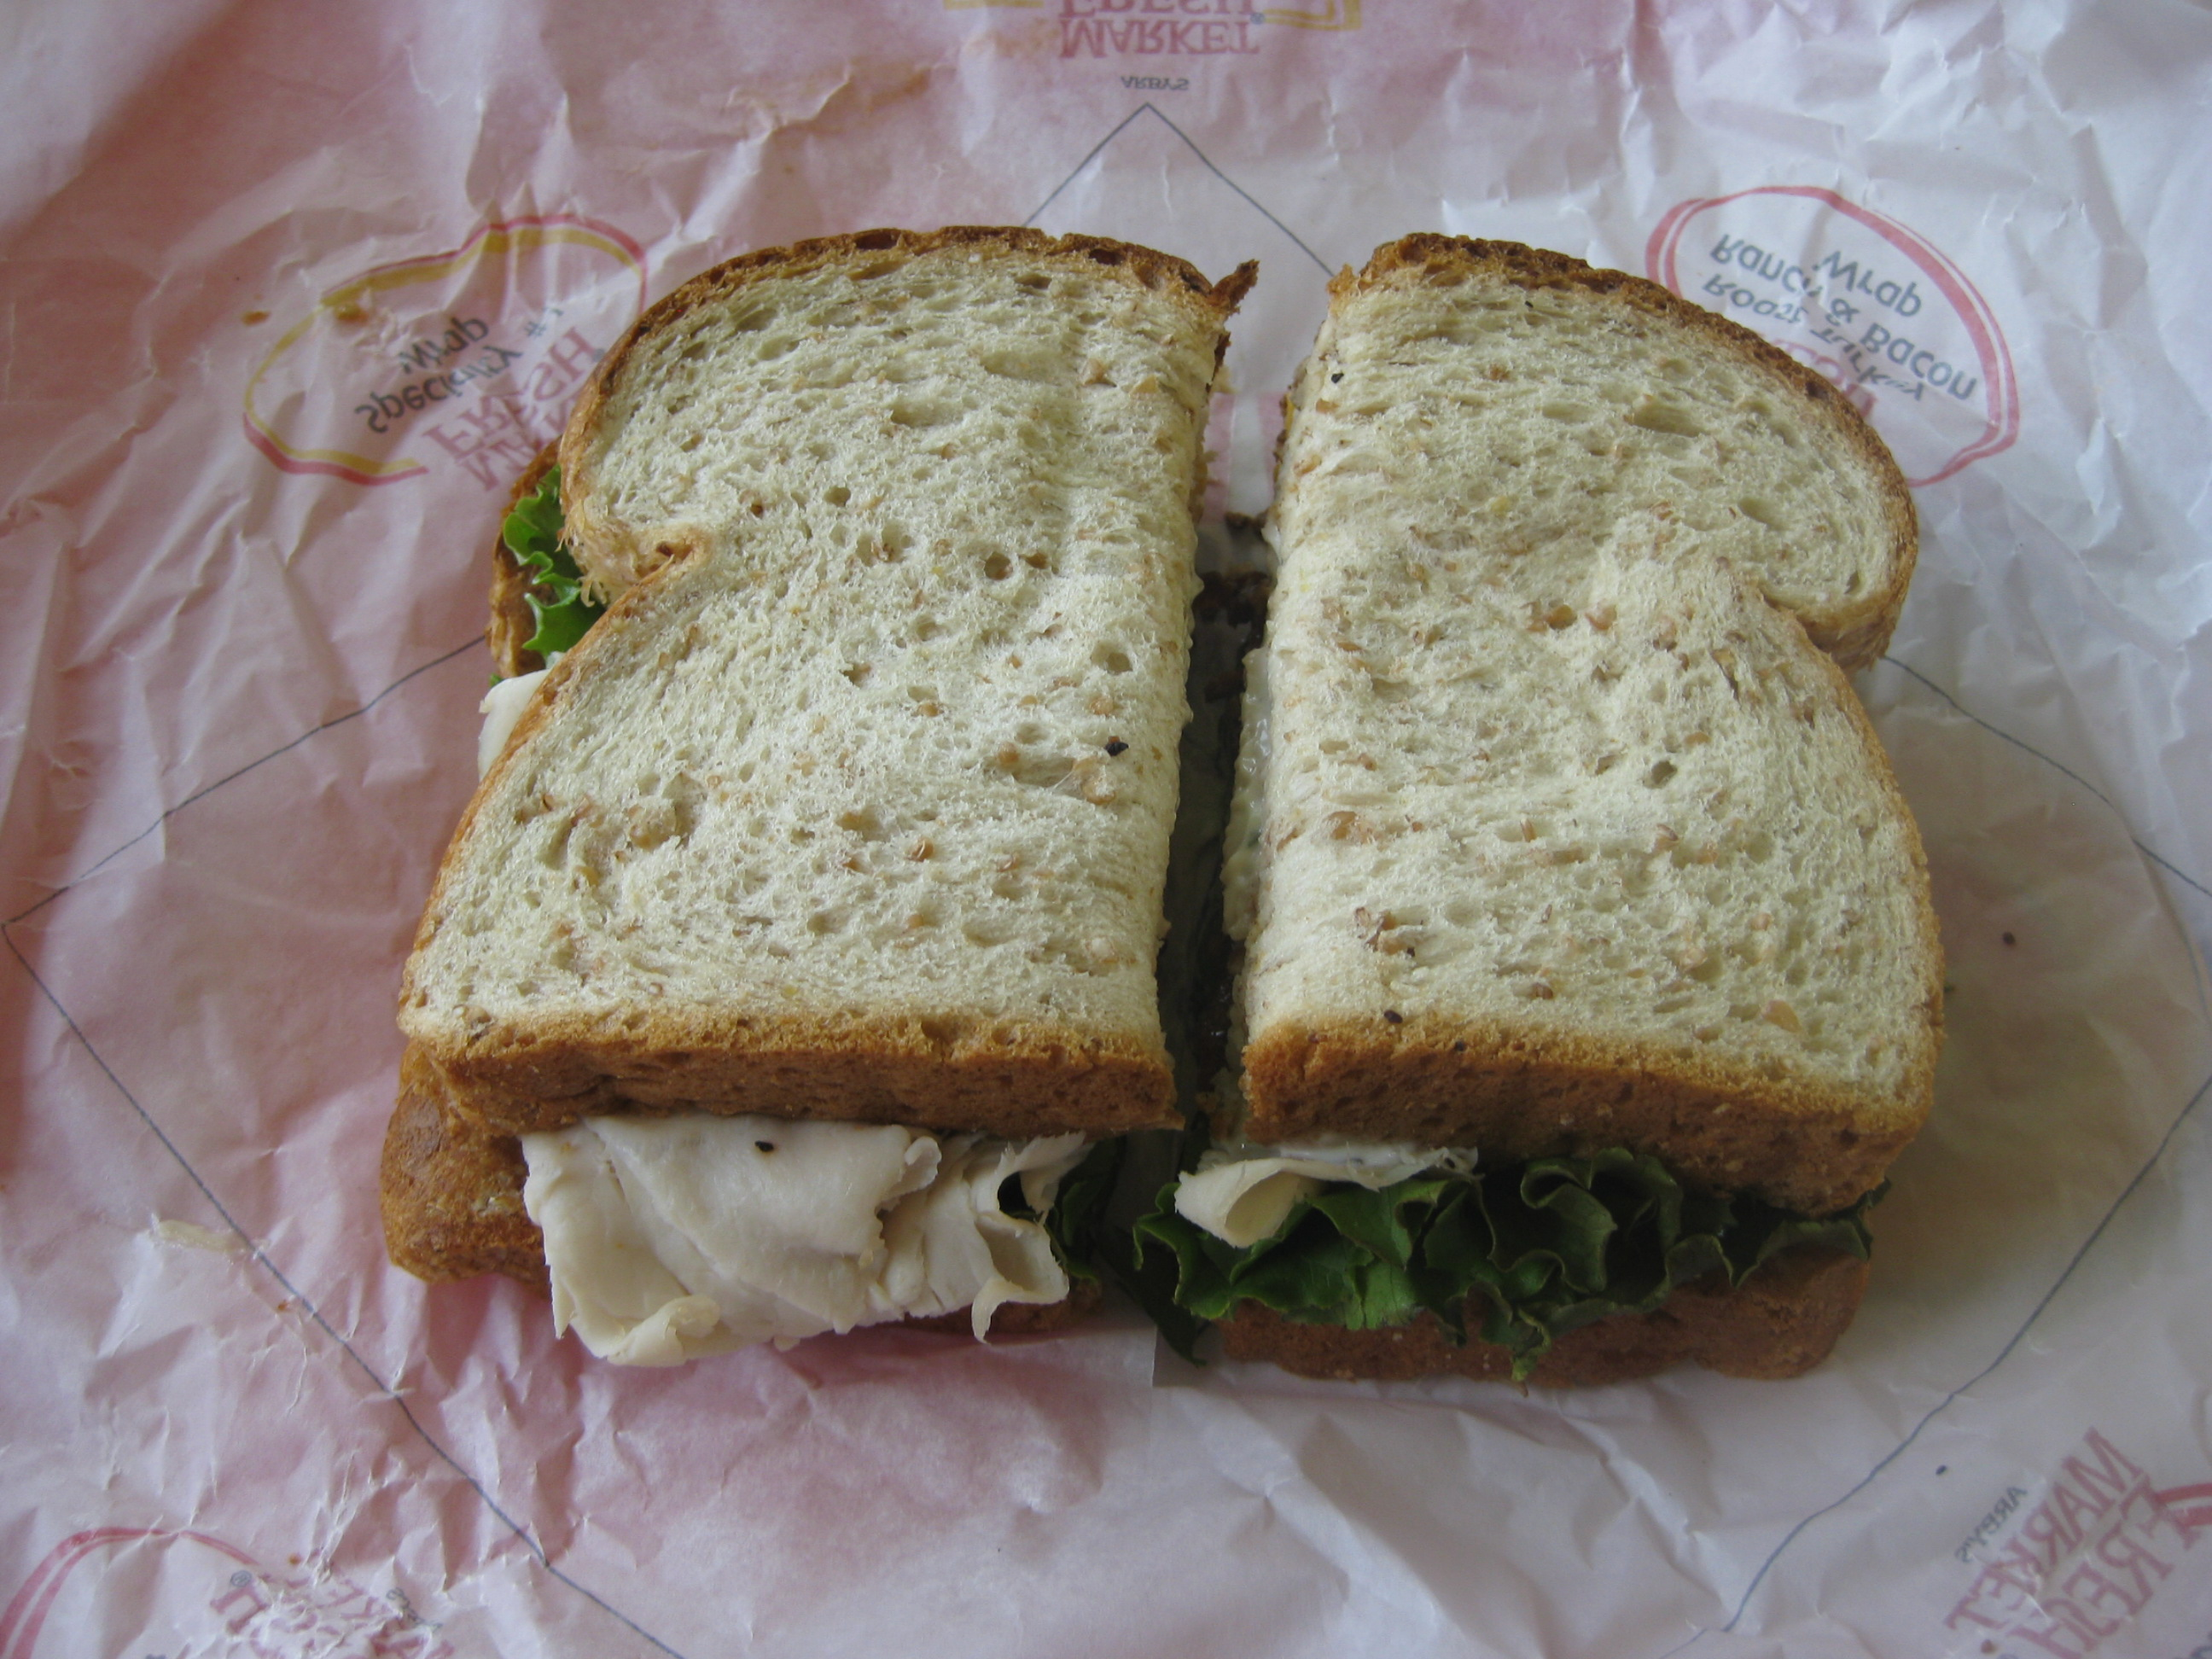sandwich: (328, 143, 2047, 1420)
